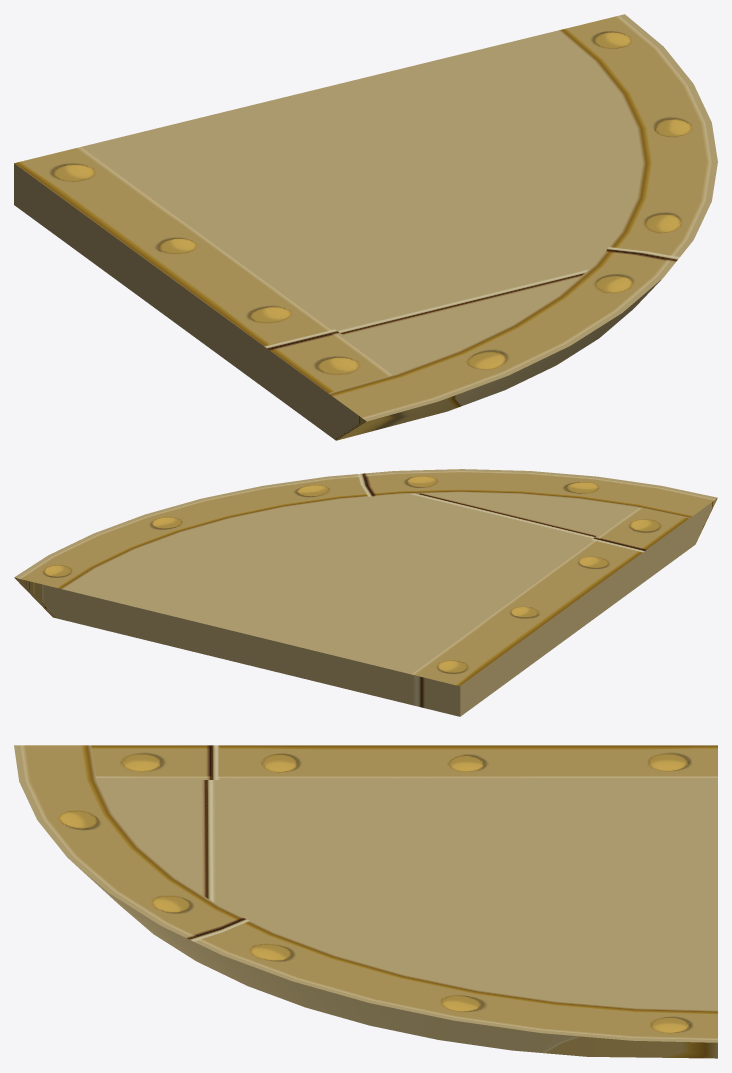
File: Big_Upperfloor_F.fbx
3 renders of one model, top to bottom at view 1: azimuth 30°, elevation 25°; view 2: azimuth 150°, elevation 25°; view 3: azimuth 270°, elevation 25°, orthographic. The views are drawn at different scales.
Visible parts, largest first — view 1: Big_Upperfloor_F; view 2: Big_Upperfloor_F; view 3: Big_Upperfloor_F.
Part boxes in pixels (<box>): Big_Upperfloor_F: <box>14,14,717,440</box>; Big_Upperfloor_F: <box>14,469,717,716</box>; Big_Upperfloor_F: <box>14,745,717,1058</box>.
Size of the model in its own units: 3.06 by 0.2 by 3.06.
